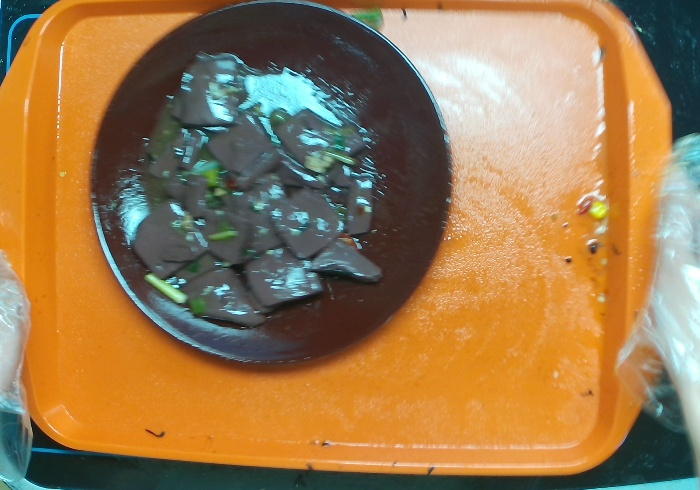HZYJPL-Ka_Fei_Yuan_Pan: (76, 1, 460, 392)
